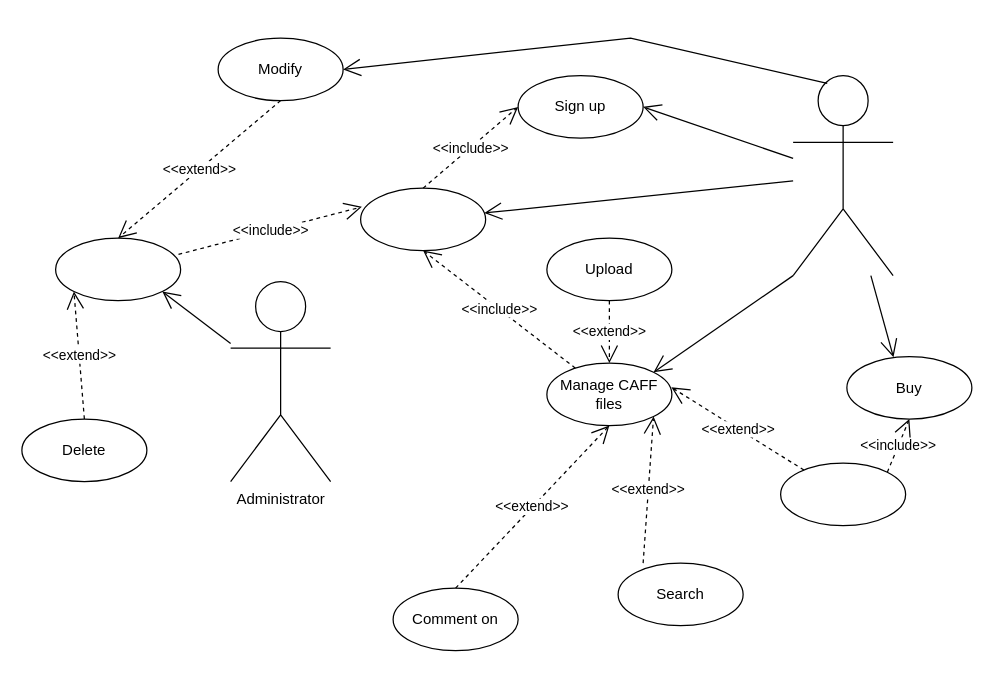
This 994x673 diagram has some shape labels left out. Each missing label, with the box of its shape:
Download: (779, 462, 906, 526)
Manage data: (54, 237, 181, 301)
Sign in: (359, 187, 486, 251)
User: (792, 74, 893, 276)
